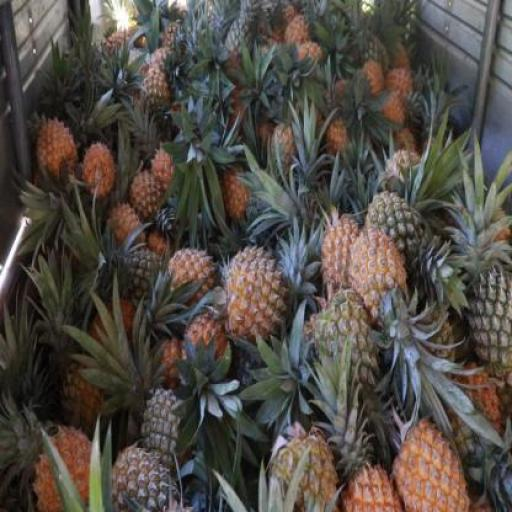------------------------------: (315, 295, 383, 394), (369, 192, 433, 290), (66, 362, 116, 437), (140, 69, 173, 127)
Pineapple - v8 v1: (396, 423, 475, 511), (36, 424, 112, 511), (354, 224, 416, 326), (227, 244, 290, 339), (324, 215, 374, 304), (184, 315, 232, 394), (178, 251, 220, 307), (37, 117, 76, 177), (130, 171, 168, 218), (82, 142, 112, 200)
